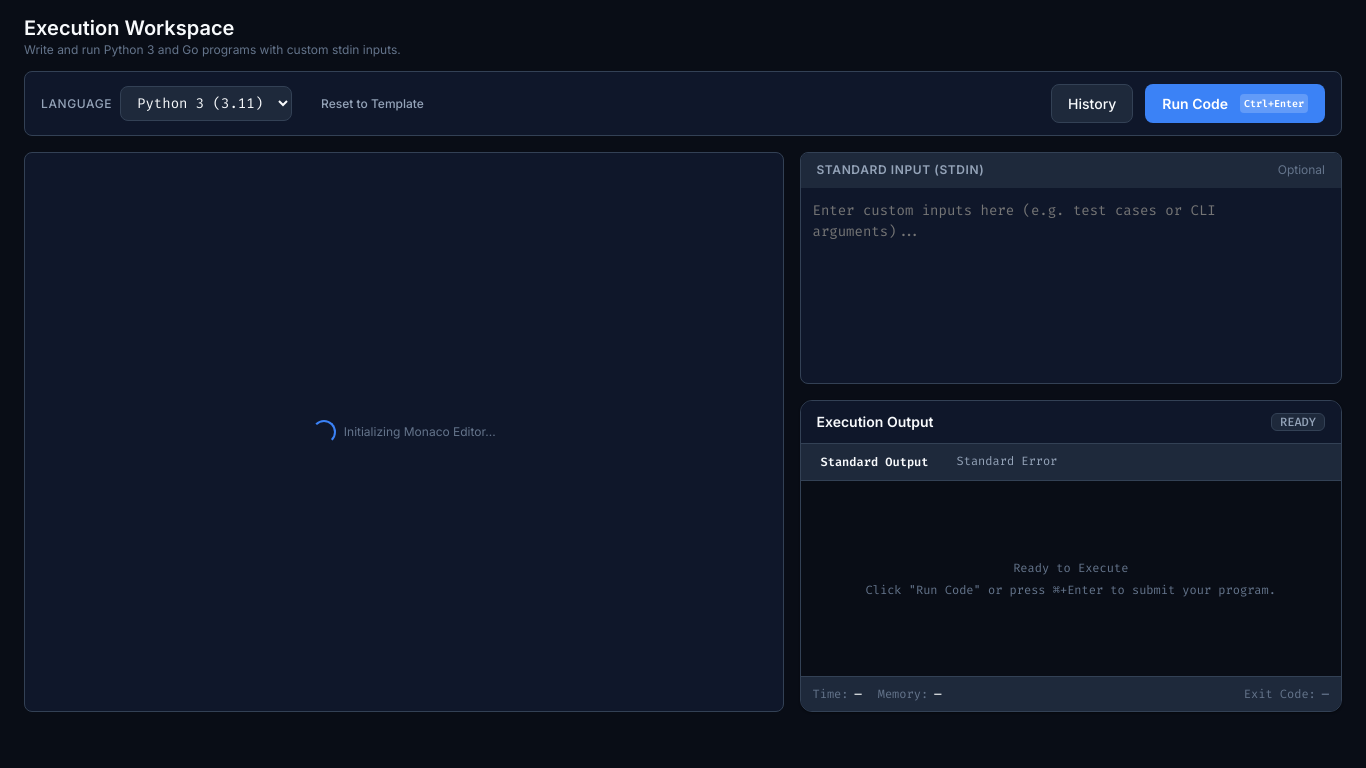
AppPage component integration › 16. renders History button, opens HistoryDrawer, and isolates active execution state
Expected: the text "Ready to Execute" is shown, x1=1013 y1=558 x2=1128 y2=576
# Open history drawer
Click the button with aria-label "submission history".
click(1092, 104)  # box x1=1051 y1=84 x2=1133 y2=123
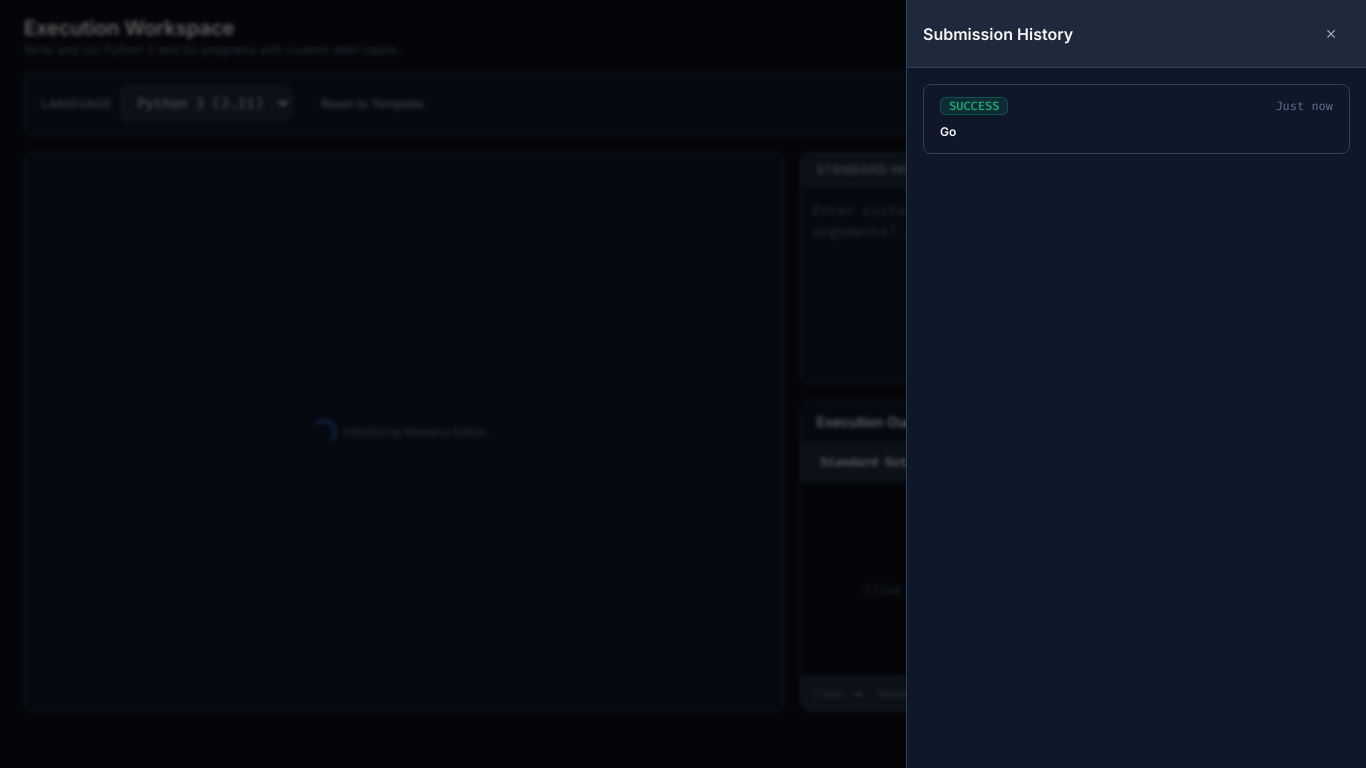
Now the dialog named "submission history drawer" is shown
